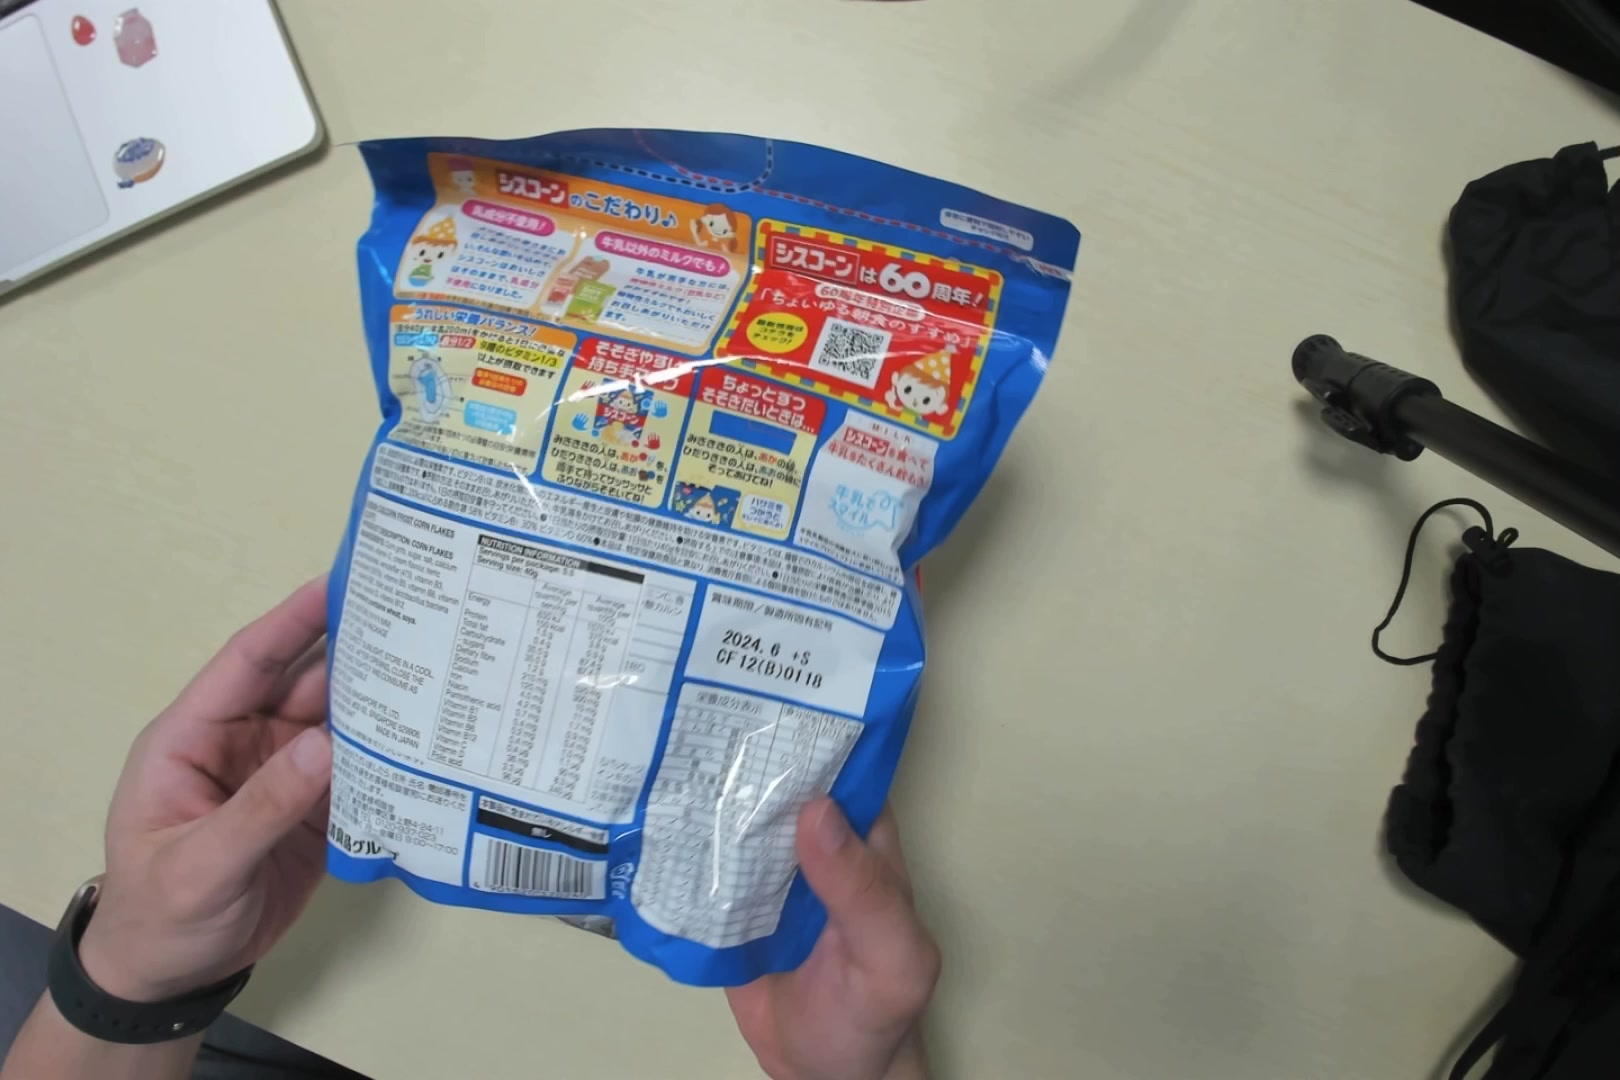BreakfastCereals_200-299g_NonHalal_NonHealthy: (325, 134, 1072, 984)
